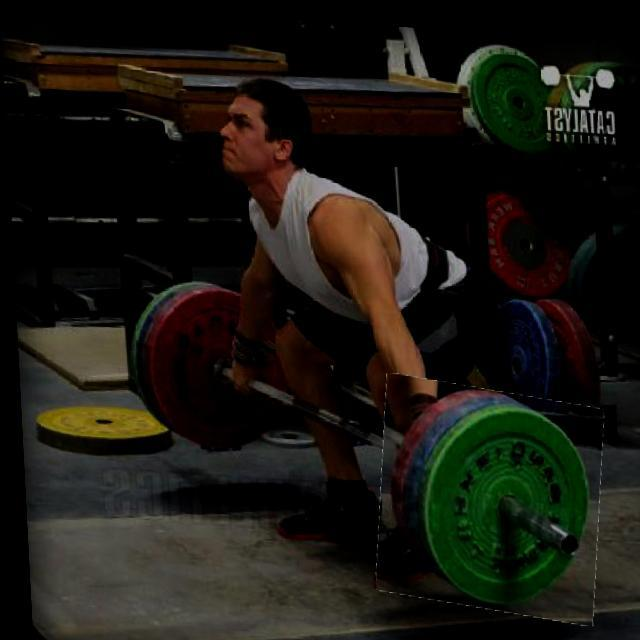barbell: (367, 373, 604, 616)
